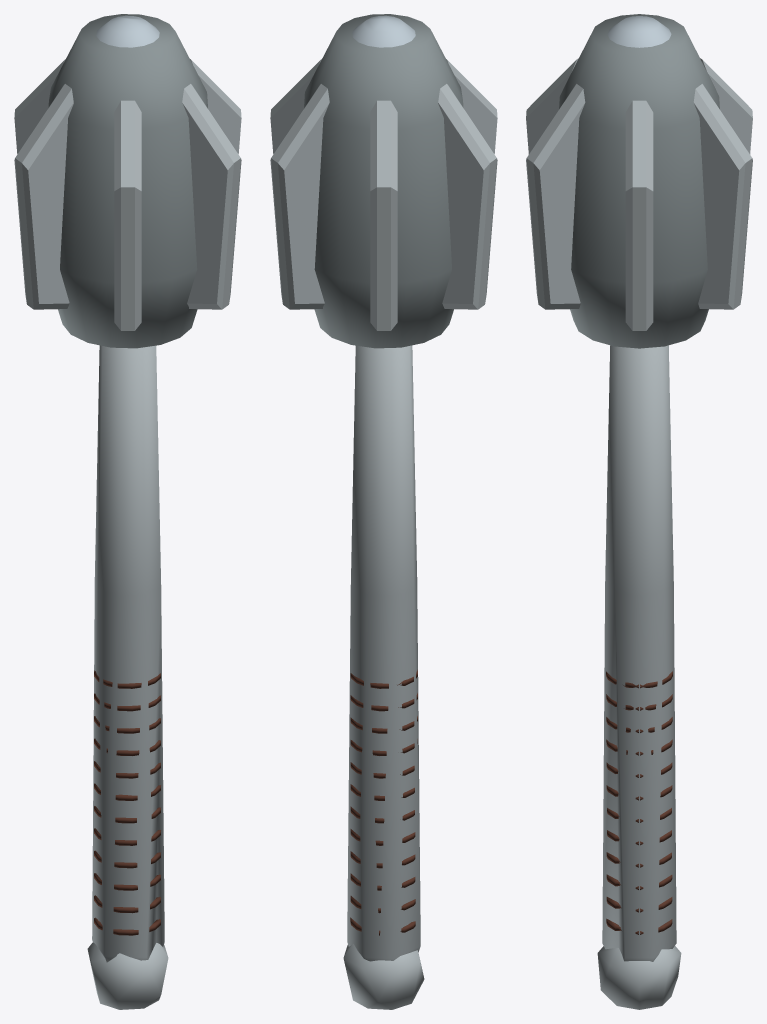
File: cleric-mace-standard-low.glb
3 views of the same model, side by side, from view 1: azimuth 30°, elevation 25°; view 2: azimuth 150°, elevation 25°; view 3: azimuth 270°, elevation 25° (orthographic).
Parts seen in each view (by area): view 1: cleric-mace__standard; view 2: cleric-mace__standard; view 3: cleric-mace__standard.
Boxes of the visible parts, x1,y1,x2,y2 form: cleric-mace__standard: (14,14,241,1009); cleric-mace__standard: (270,14,497,1009); cleric-mace__standard: (526,14,752,1009).
Bounding box in the file's own units: 0.184 × 0.794 × 0.1652.
